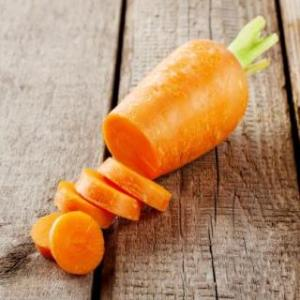carrot: (102, 16, 280, 178)
